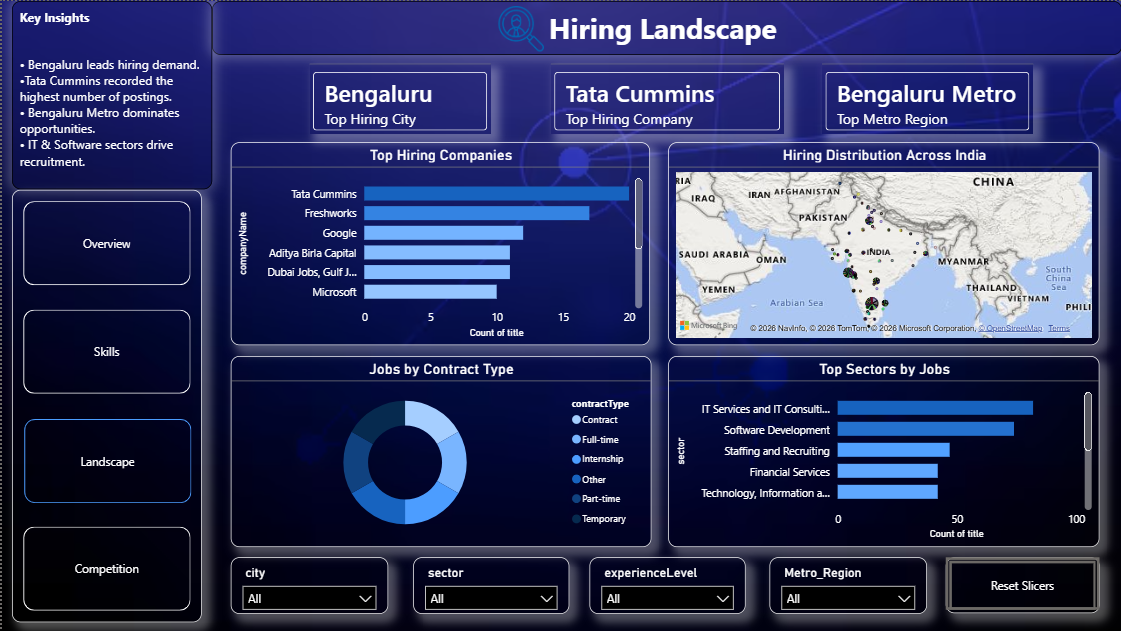

The page's visual inventory and layout, read from the dashboard file:
{"tool":"powerbi","page":{"name":"Landscape","canvas":[1280,720],"ordinal":2},"visuals":[{"type":"pageNavigator","box":[11.4,215.7,217.1,494.3],"z":0},{"type":"textbox","box":[240.4,0,1039.9,61.8],"z":1000},{"type":"cardVisual","fields":{"Data":["LinkedIn_Jobs_Final.Top Hiring City"]},"box":[351.3,71.4,207.2,81],"z":2000},{"type":"cardVisual","fields":{"Data":["LinkedIn_Jobs_Final.Top Hiring Company"]},"box":[627.1,71.4,266.2,81],"z":3000},{"type":"cardVisual","fields":{"Data":["LinkedIn_Jobs_Final.Top Metro Region"]},"box":[937.2,71.4,241.5,81],"z":4000},{"type":"clusteredBarChart","title":"Top Hiring Companies","fields":{"Category":["LinkedIn_Jobs_Final.companyName"],"Y":["CountNonNull(LinkedIn_Jobs_Final.title)"]},"box":[261,162.1,479.4,232.2],"z":5000},{"type":"map","title":"Hiring Distribution Across India","fields":{"Category":["LinkedIn_Jobs_Final.city"],"Series":["LinkedIn_Jobs_Final.sector"],"Size":["CountNonNull(LinkedIn_Jobs_Final.title)"]},"box":[761,162.1,493.2,232.2],"z":6000},{"type":"donutChart","title":"Jobs by Contract Type","fields":{"Category":["LinkedIn_Jobs_Final.contractType"],"Y":["CountNonNull(LinkedIn_Jobs_Final (2).title)"]},"box":[261,405.2,480.8,218.4],"z":7000},{"type":"clusteredBarChart","title":"Top Sectors by Jobs","fields":{"Y":["CountNonNull(LinkedIn_Jobs_Final.title)"],"Category":["LinkedIn_Jobs_Final.sector"]},"box":[761,405.2,493.2,218.4],"z":8000},{"type":"textbox","box":[11,0,229.2,215.4],"z":9000},{"type":"slicer","fields":{"Values":["LinkedIn_Jobs_Final.city"]},"box":[261,636,180,64.6],"z":10000},{"type":"slicer","fields":{"Values":["LinkedIn_Jobs_Final.sector"]},"box":[469.8,636,178.6,64.6],"z":11000},{"type":"slicer","fields":{"Values":["LinkedIn_Jobs_Final.experienceLevel"]},"box":[671.7,636,178.6,64.6],"z":12000},{"type":"slicer","fields":{"Values":["LinkedIn_Jobs_Final.Metro_Region"]},"box":[877.8,636,180,64.6],"z":13000},{"type":"actionButton","box":[1078.6,635.7,175.7,64.3],"z":14000},{"type":"image","box":[559.1,5.5,70.1,52.2],"z":15000},{"type":"actionButton","box":[1078.6,635.7,175.7,60],"z":16000}]}

Visuals, with their boxes in screenshot pixels (x1, y1, x2, y2), scaled from the page's 1280x720 canvas onto the 1121x631 screenshot:
pageNavigator: locate(10, 189, 200, 622)
textbox: locate(211, 0, 1120, 54)
cardVisual - LinkedIn_Jobs_Final.Top Hiring City: locate(308, 63, 489, 134)
cardVisual - LinkedIn_Jobs_Final.Top Hiring Company: locate(549, 63, 782, 134)
cardVisual - LinkedIn_Jobs_Final.Top Metro Region: locate(821, 63, 1032, 134)
"Top Hiring Companies" clusteredBarChart: locate(229, 142, 648, 346)
"Hiring Distribution Across India" map: locate(666, 142, 1098, 346)
"Jobs by Contract Type" donutChart: locate(229, 355, 650, 547)
"Top Sectors by Jobs" clusteredBarChart: locate(666, 355, 1098, 547)
textbox: locate(10, 0, 210, 189)
slicer - LinkedIn_Jobs_Final.city: locate(229, 557, 386, 614)
slicer - LinkedIn_Jobs_Final.sector: locate(411, 557, 568, 614)
slicer - LinkedIn_Jobs_Final.experienceLevel: locate(588, 557, 745, 614)
slicer - LinkedIn_Jobs_Final.Metro_Region: locate(769, 557, 926, 614)
actionButton: locate(945, 557, 1098, 613)
image: locate(490, 5, 551, 51)
actionButton: locate(945, 557, 1098, 610)
